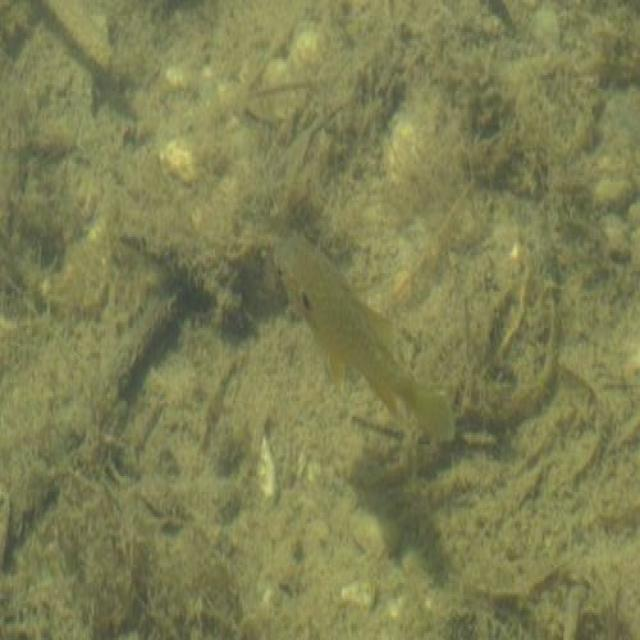Gunes Levregi: (272, 231, 473, 455)
